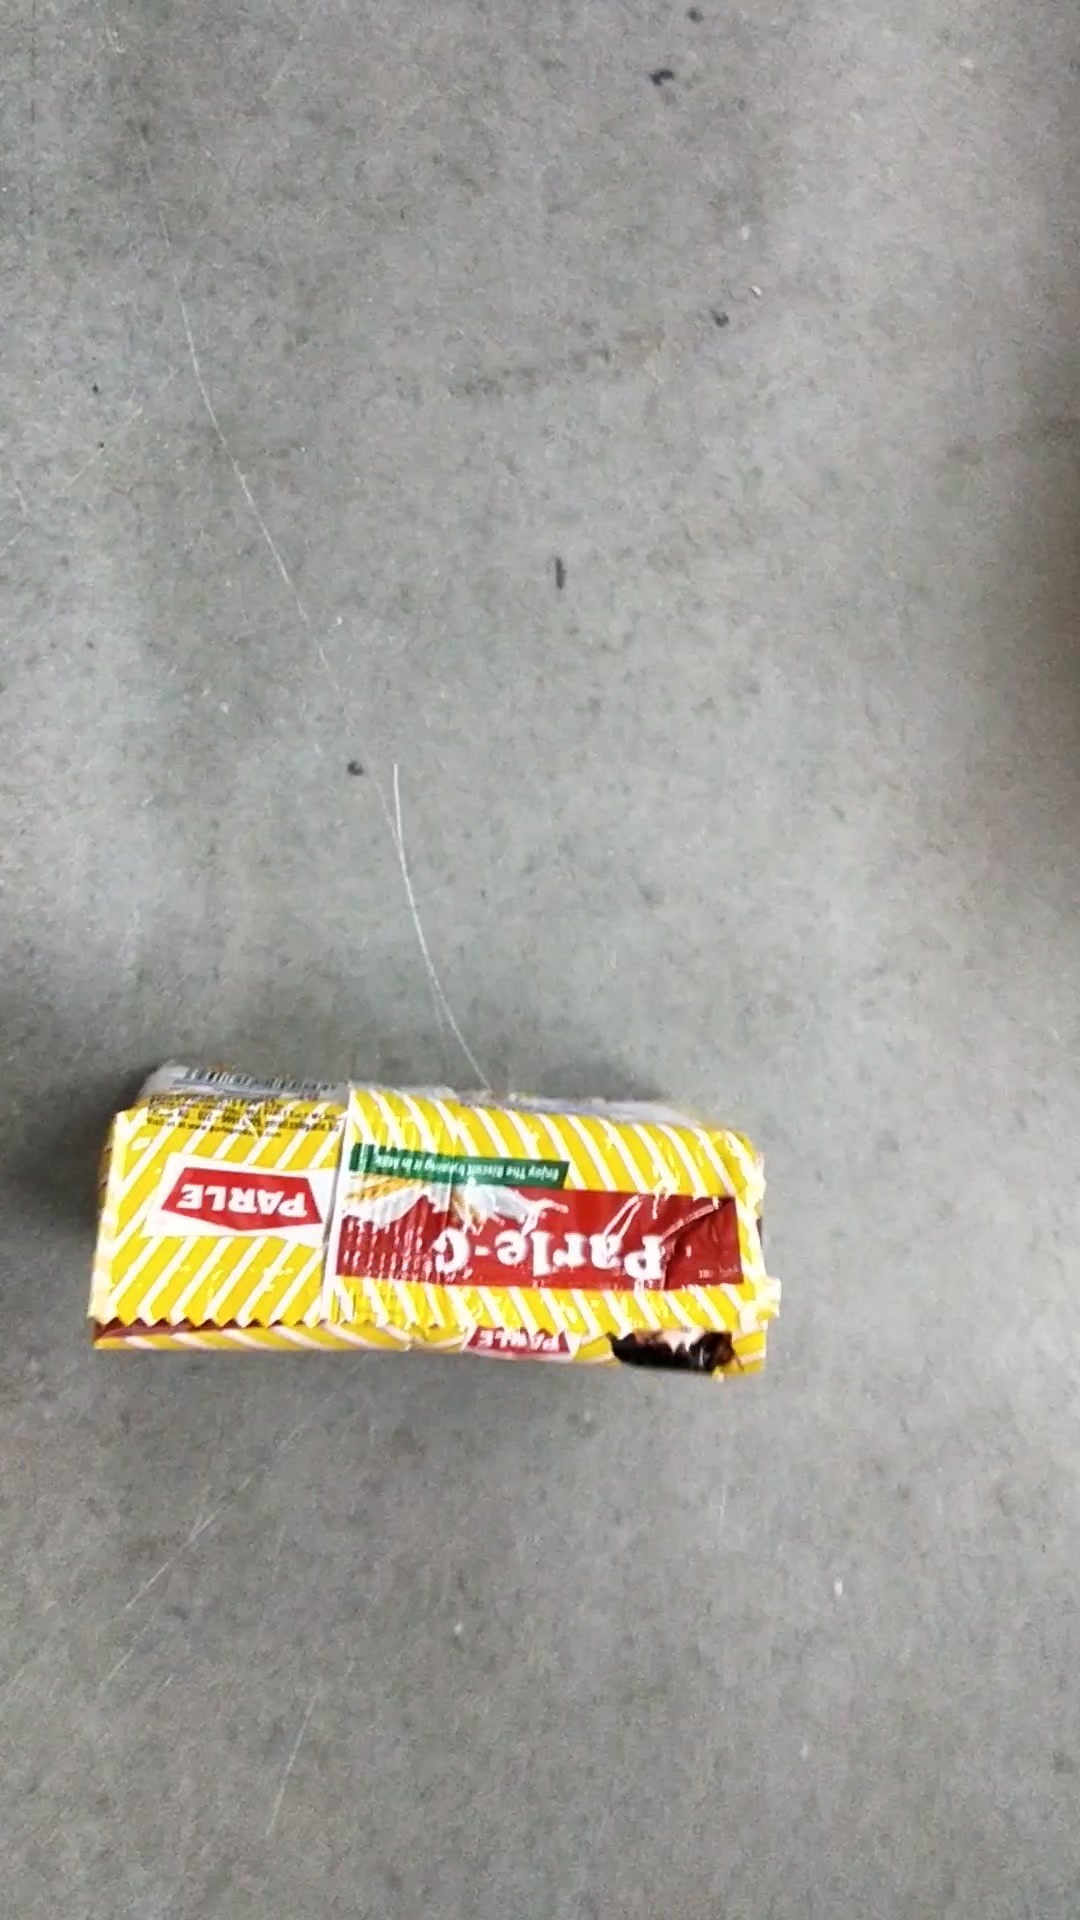parle-g: (115, 1118, 782, 1387)
